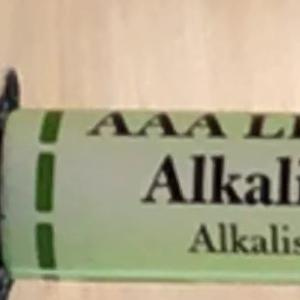keyword: (131, 144, 217, 214)
